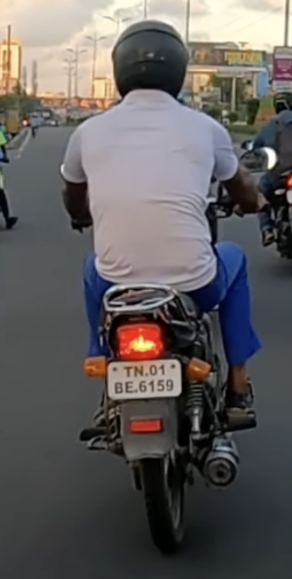motor: (66, 201, 267, 546)
number: (105, 361, 183, 397)
with helmet: (104, 21, 188, 97)
